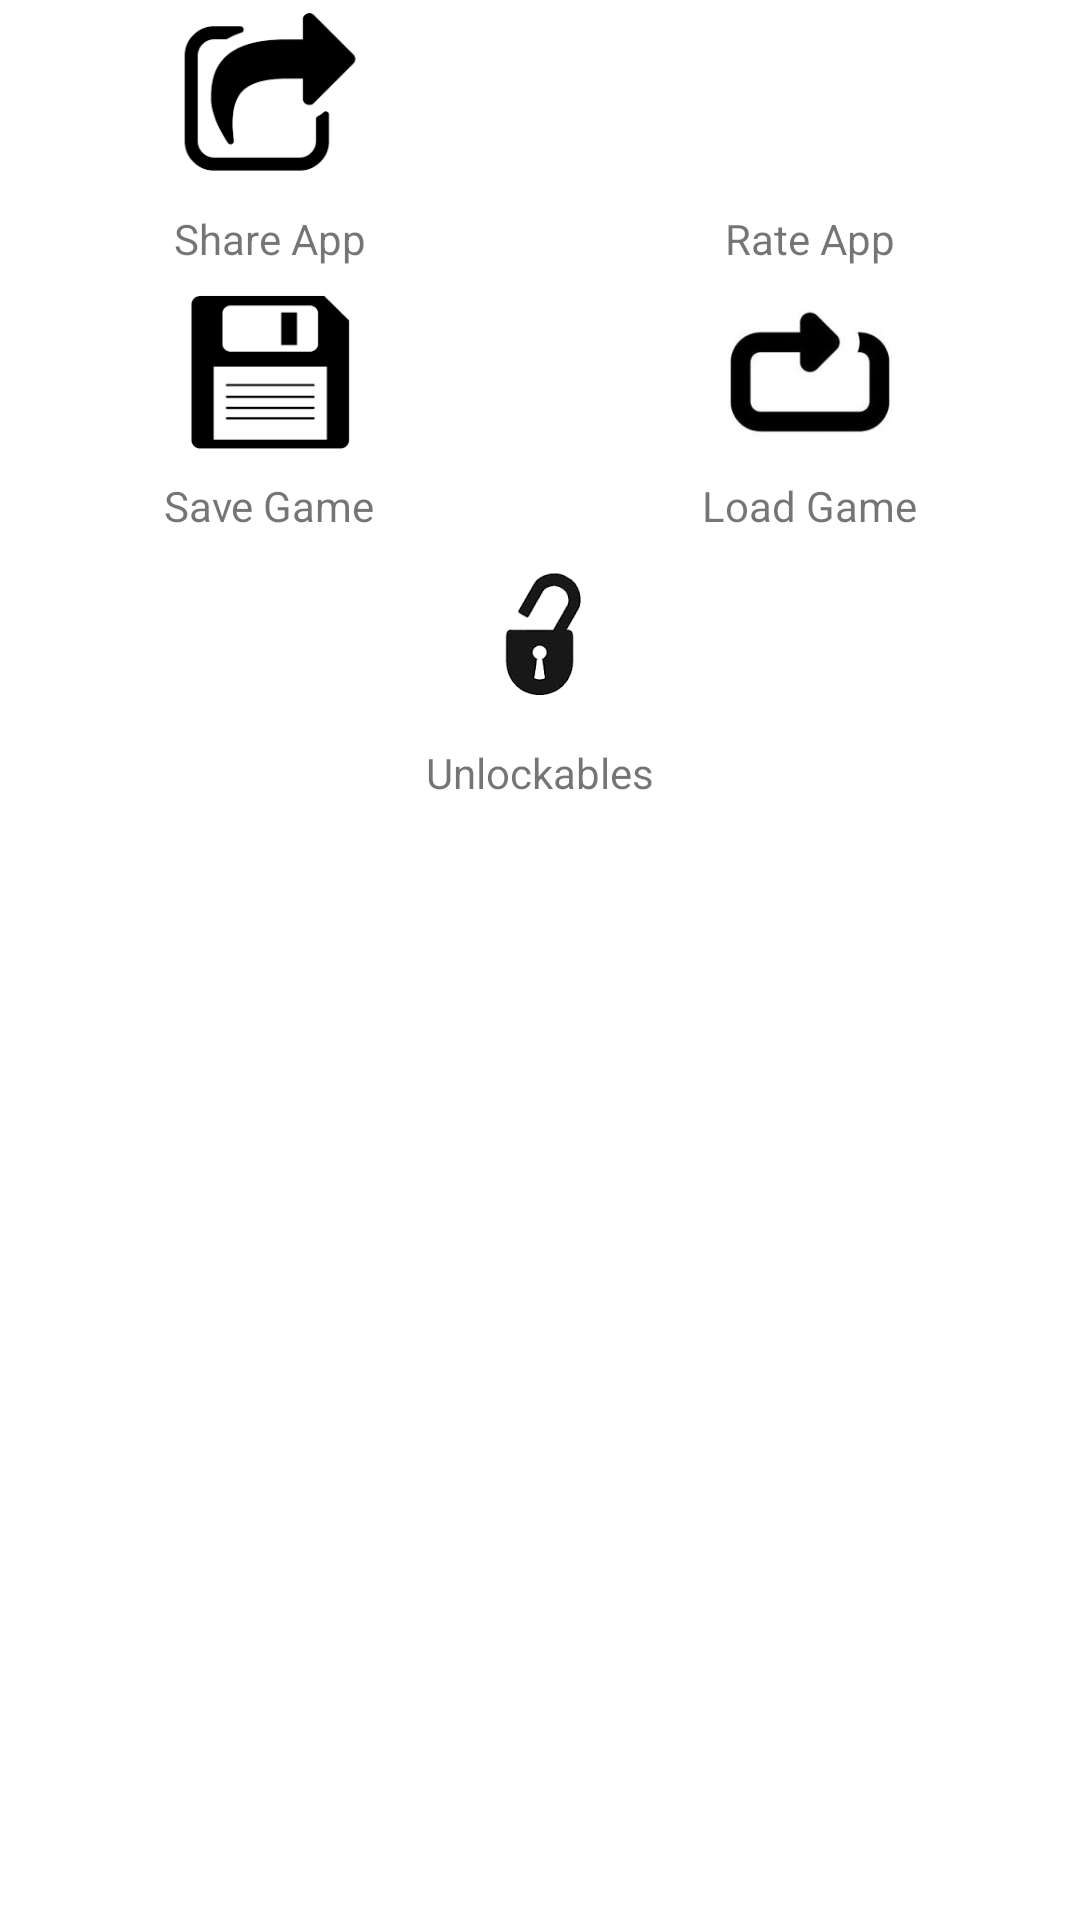

Named icons in this screenshot (1080*1920) and their centers, [x,y]:
unloackgame: [543,634]
